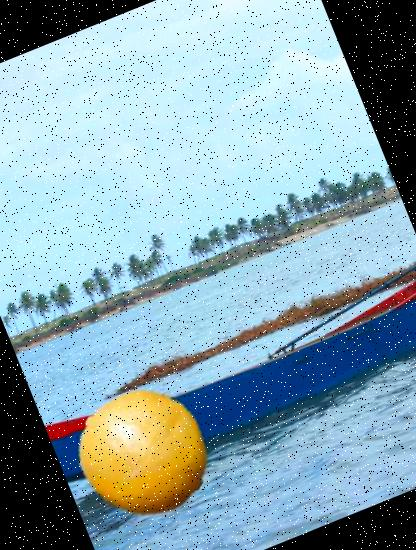Grapefruit: (58, 366, 230, 538)
